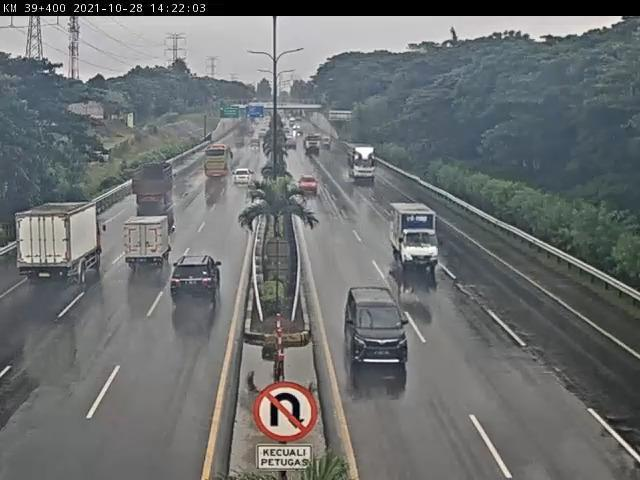bus: (202, 146, 234, 181)
car: (344, 288, 411, 375), (170, 258, 228, 305), (232, 167, 256, 189), (297, 174, 317, 192)
truck: (16, 204, 107, 291), (392, 204, 442, 275), (124, 218, 175, 272), (130, 161, 178, 209), (350, 143, 381, 180)
